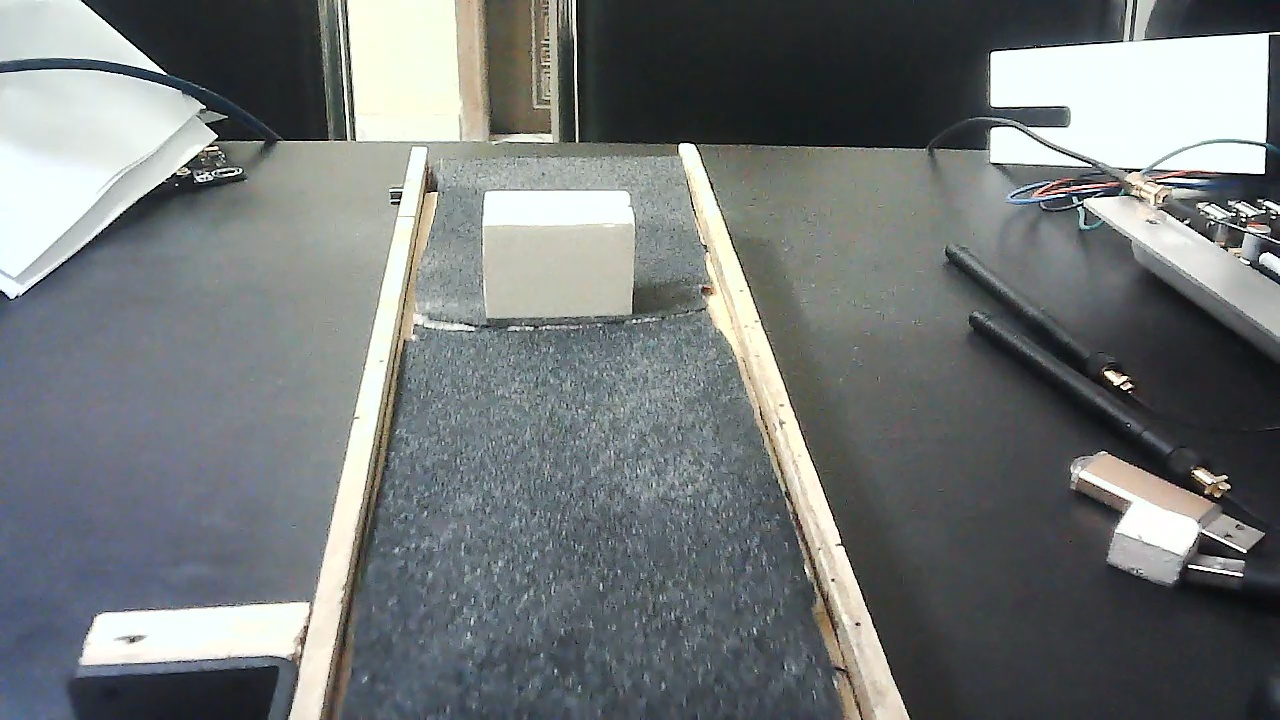BIG: (482, 178, 634, 330)
